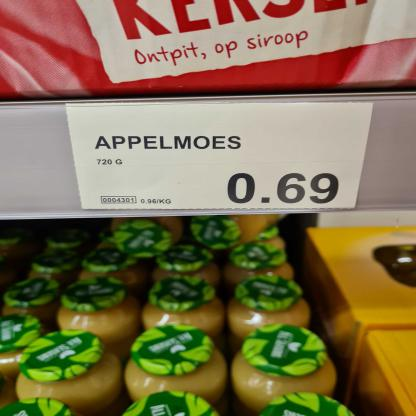prtg: (68, 104, 373, 210)
